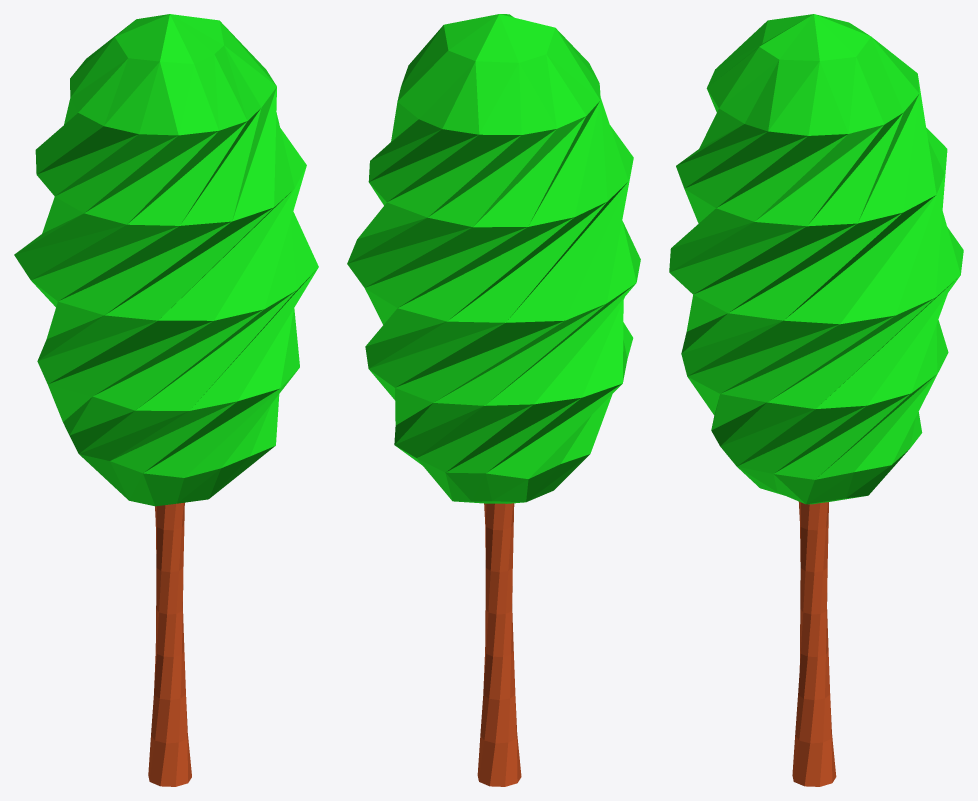
Rendered from longTree.gltf.
The picture shows the model from 3 angles, left to right: view 1: azimuth 30°, elevation 25°; view 2: azimuth 150°, elevation 25°; view 3: azimuth 270°, elevation 25°; orthographic projection.
Parts seen in each view (by area): view 1: low poly tree; view 2: low poly tree; view 3: low poly tree.
Part boxes in pixels (bbox=[...]): low poly tree: bbox=[14, 14, 318, 786]; low poly tree: bbox=[347, 14, 640, 786]; low poly tree: bbox=[669, 14, 963, 786].
Size of the model in its own units: 140 by 402 by 140.
